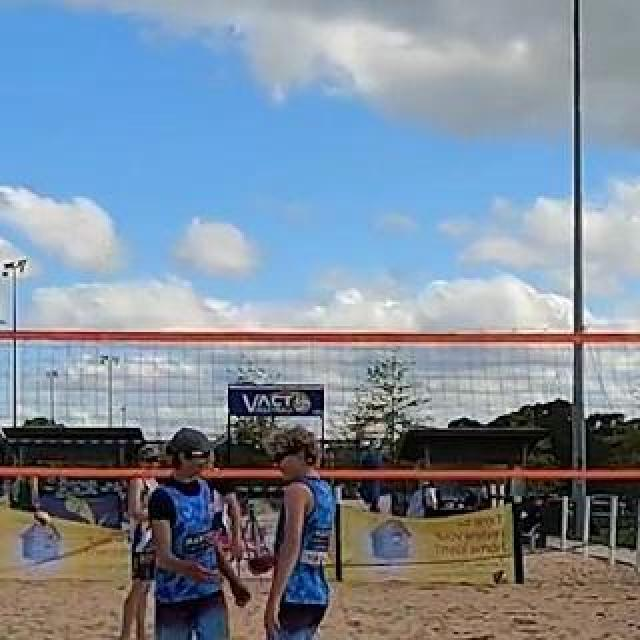volleyball: (33, 509, 49, 529), (492, 569, 510, 585)
